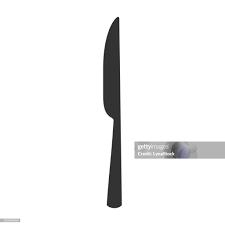Knife: (102, 16, 121, 207)
